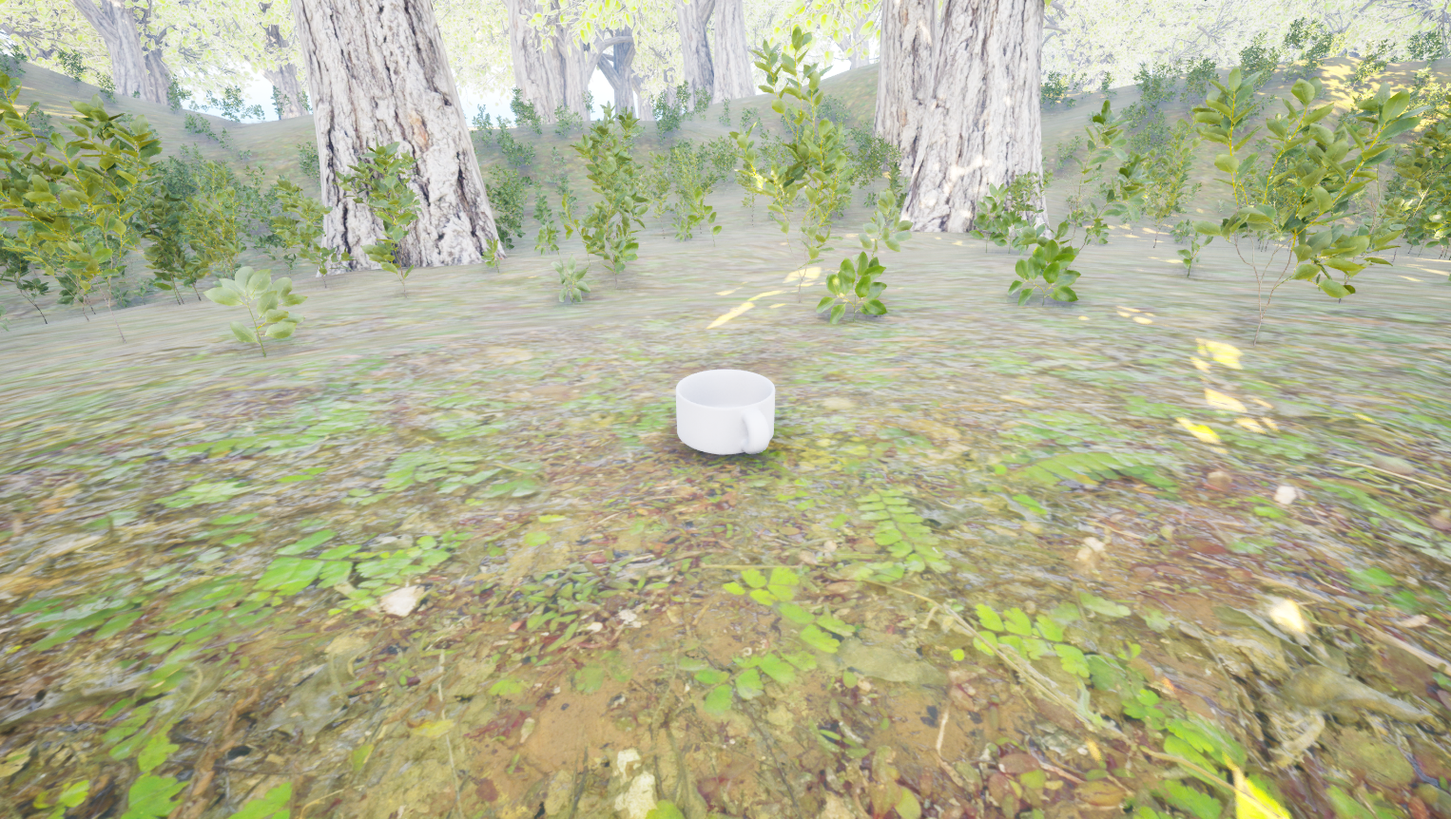Teacup: (663, 367, 777, 466)
